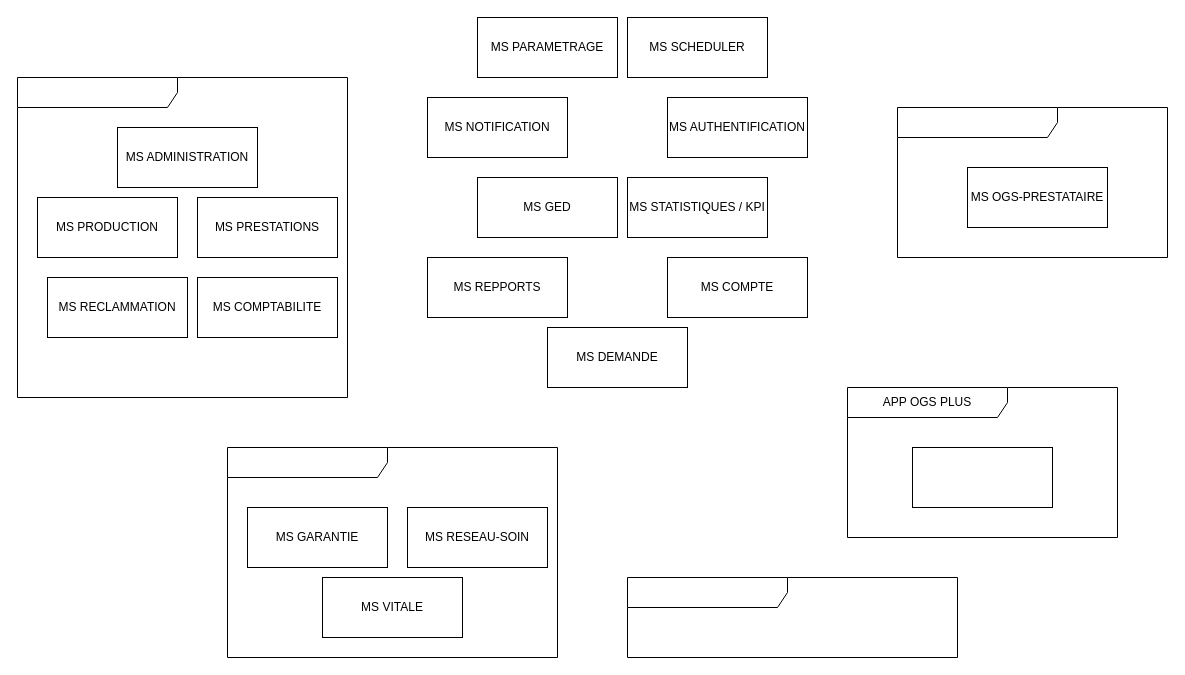
Image size: 1185x675. Some labels were removed from this diagram. The box of each missing label's shape, as (x1, y1, x2, y2) in pixels:
APP HYGEE: (16, 76, 348, 398)
APP OGS PRESTATAIRE: (896, 106, 1168, 258)
APP OGS-CONNECT: (226, 446, 558, 658)
APP OGS-DOCTOR: (626, 576, 958, 658)
MS OGS-PLUS: (912, 446, 1052, 508)
